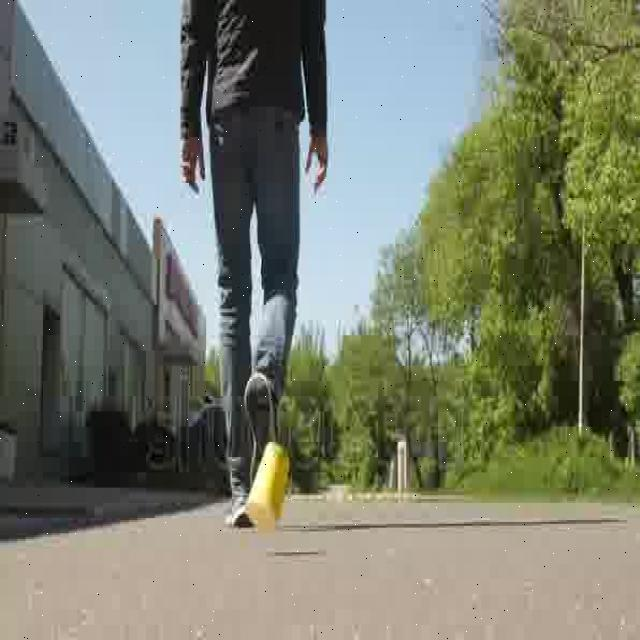garbage_dumping: (246, 436, 291, 532)
